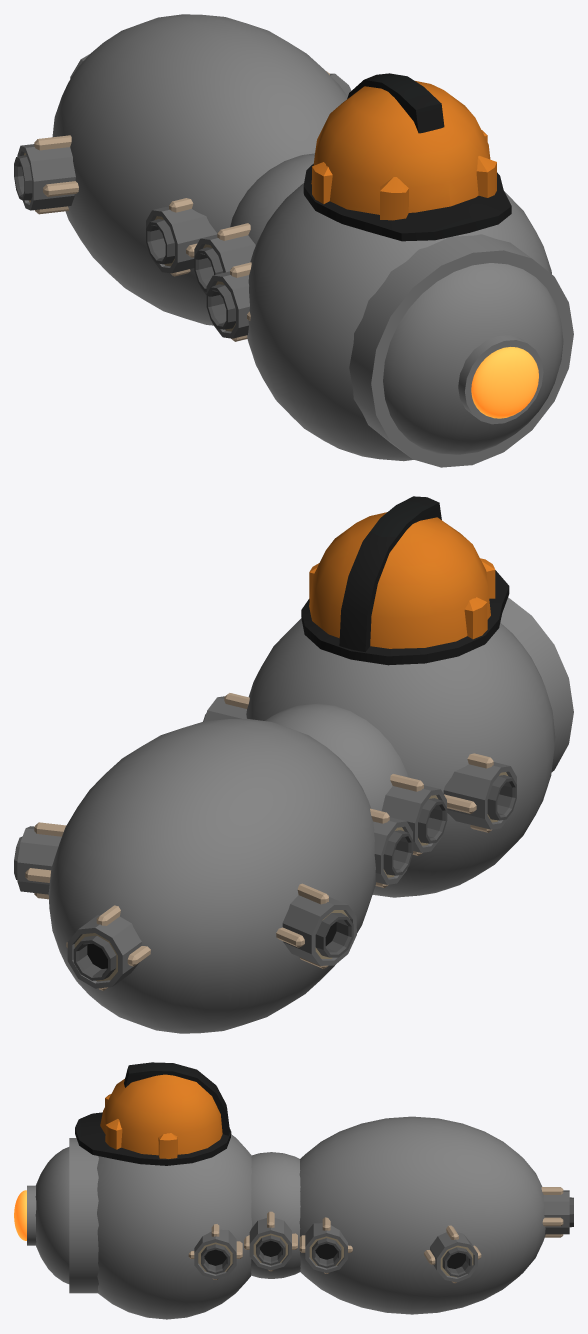
File: CustomisableBotBase 5.fbx
3 renders of one model, top to bottom at view 1: azimuth 30°, elevation 25°; view 2: azimuth 150°, elevation 25°; view 3: azimuth 270°, elevation 25°, orthographic. The views are drawn at different scales.
Parts seen in each view (by area): view 1: Sphere__2_, Sphere, TBC_Hard_hat, Sphere_1, Cylinder__1_, AttatchPointModel_7, Pupil, AttatchPointModel_6, Sphere__1_, AttatchPointModel_4, AttatchPointModel_5, Cylinder__2_; view 2: Sphere__2_, Sphere, TBC_Hard_hat, Sphere__1_, AttatchPointModel_7, AttatchPointModel_8, AttatchPointModel_4, Cylinder__1_, AttatchPointModel_5, AttatchPointModel, AttatchPointModel_6, AttatchPointModel_3; view 3: Sphere__2_, Sphere, TBC_Hard_hat, Cylinder__1_, Sphere__1_, Sphere_1, AttatchPointModel_2, AttatchPointModel, AttatchPointModel_1, AttatchPointModel_3, AttatchPointModel_8, Cylinder__2_ (+1 smaller).
Boxes of the visible parts, x1,y1,x2,y2 form: Sphere__2_: [52, 14, 347, 325]; Sphere: [247, 183, 551, 461]; TBC_Hard_hat: [303, 73, 511, 241]; Sphere_1: [383, 263, 563, 454]; Cylinder__1_: [349, 234, 573, 467]; AttatchPointModel_7: [14, 135, 78, 214]; Pupil: [471, 347, 538, 418]; AttatchPointModel_6: [146, 198, 217, 276]; Sphere__1_: [230, 153, 314, 245]; AttatchPointModel_4: [206, 262, 251, 341]; AttatchPointModel_5: [194, 223, 255, 294]; Cylinder__2_: [458, 335, 543, 424]; Sphere__2_: [48, 718, 375, 1033]; Sphere: [246, 618, 555, 897]; TBC_Hard_hat: [301, 496, 509, 665]; Sphere__1_: [265, 703, 407, 811]; AttatchPointModel_7: [276, 883, 356, 968]; AttatchPointModel_8: [66, 905, 150, 990]; AttatchPointModel_4: [443, 753, 516, 832]; Cylinder__1_: [500, 597, 573, 771]; AttatchPointModel_5: [381, 774, 447, 855]; AttatchPointModel: [14, 822, 66, 899]; AttatchPointModel_6: [370, 808, 413, 887]; AttatchPointModel_3: [203, 693, 249, 721]; Sphere__2_: [299, 1116, 545, 1314]; Sphere: [97, 1134, 251, 1319]; TBC_Hard_hat: [75, 1062, 231, 1165]; Cylinder__1_: [69, 1138, 99, 1293]; Sphere__1_: [251, 1152, 300, 1278]; Sphere_1: [35, 1147, 69, 1283]; AttatchPointModel_2: [244, 1211, 297, 1271]; AttatchPointModel: [424, 1225, 481, 1283]; AttatchPointModel_1: [299, 1217, 352, 1273]; AttatchPointModel_3: [188, 1224, 242, 1279]; AttatchPointModel_8: [541, 1187, 573, 1237]; Cylinder__2_: [27, 1185, 36, 1245].
Bounding box in the file's own units: 172 × 184 × 382.
Materials: 8 (1 with a texture image).
